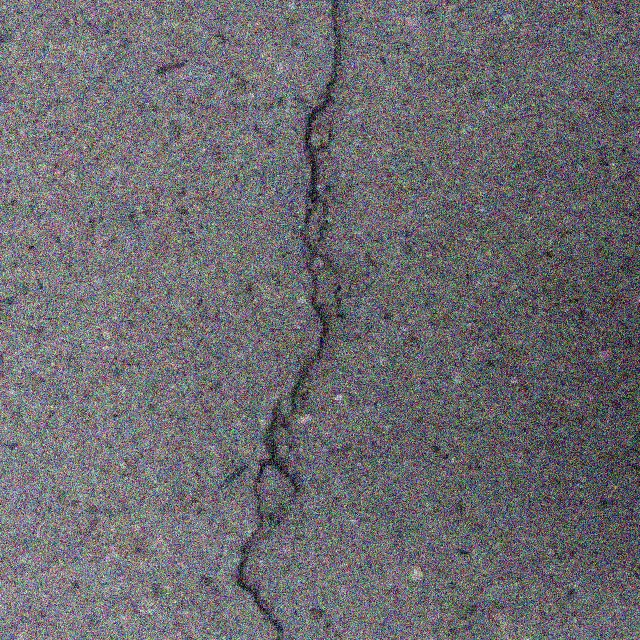SurfaceCrack: (204, 0, 374, 640)
